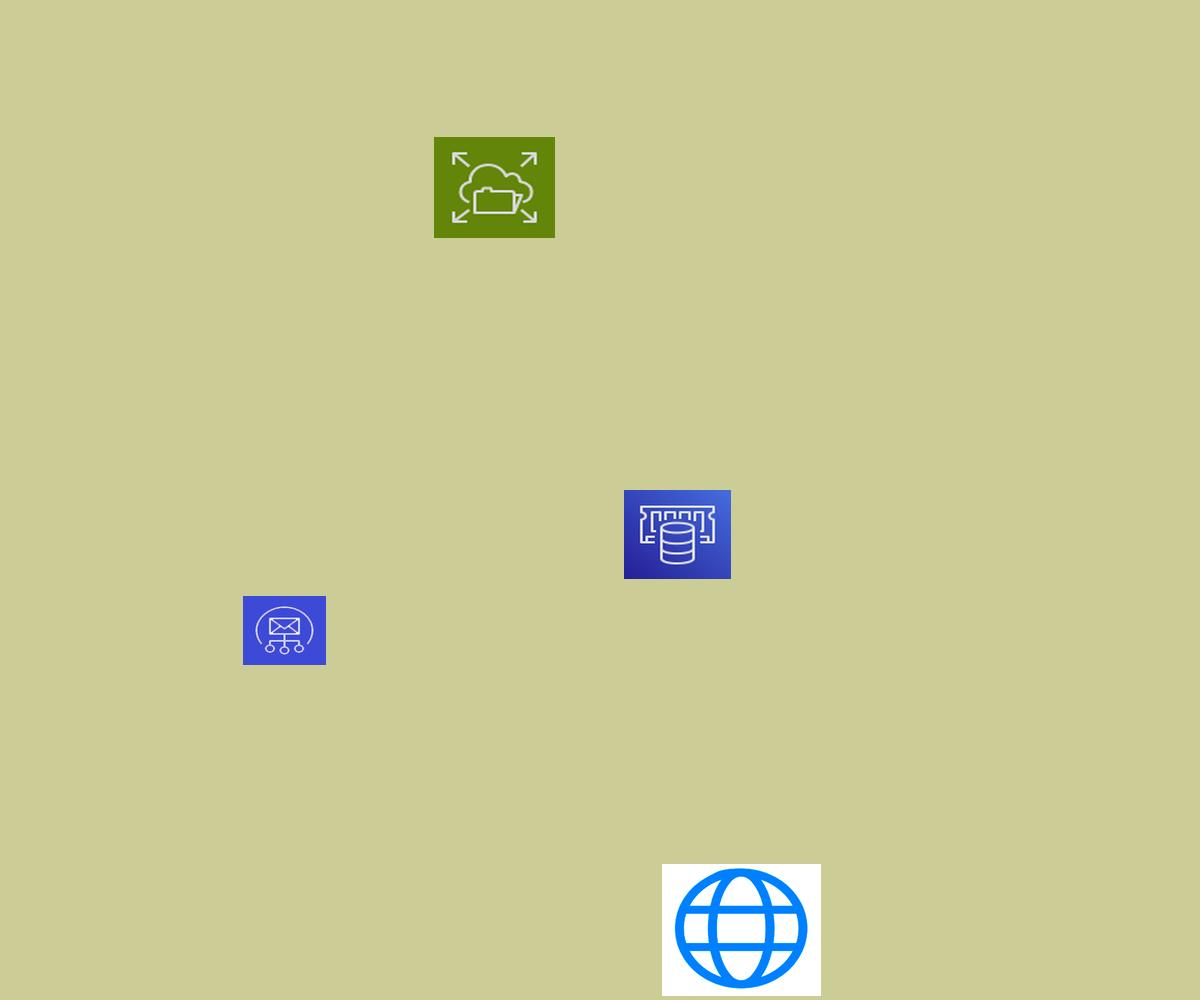AWS-EFS: (434, 137, 555, 238)
AWS-ElastiCache: (624, 490, 731, 579)
AWS-Simple-Email-Service: (243, 596, 326, 665)
Azure_http: (662, 864, 821, 996)
